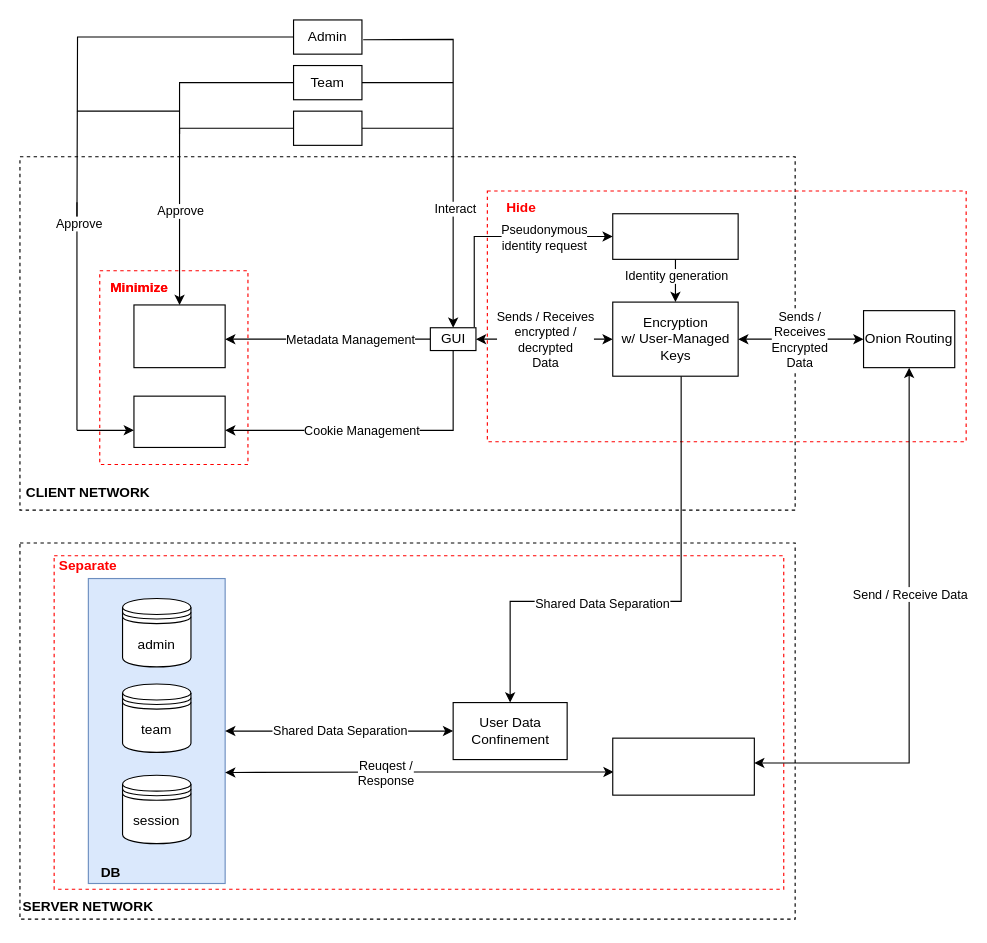
The diagram is 987 pixels wide and 943 high, and some of its shapes have lost their labels. Each missing label, with the centre of its shape:
"Cookie Manager" goes at pixel 179 421.
"Pseudonymous Identity" goes at pixel 675 236.
"Strip Invisible Metadata" goes at pixel 179 336.
"User" goes at pixel 327 127.
"Web Accessible Files Web Server)" goes at pixel 683 766.
